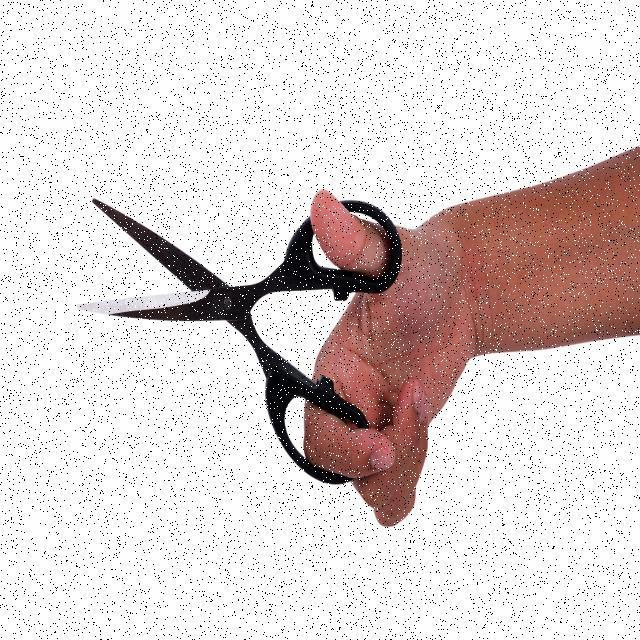scissors: (70, 179, 404, 486)
